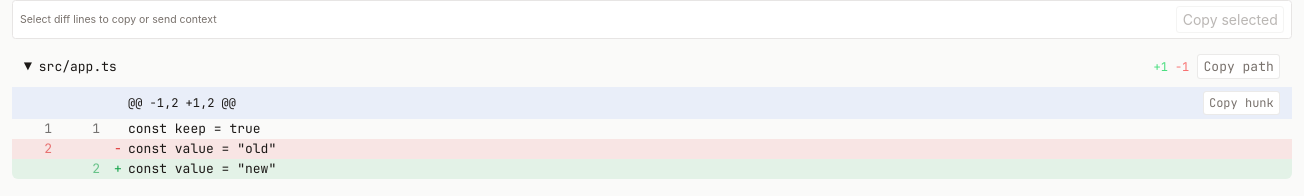
Scenario: DiffViewer actions › replaces a multi-line selection when clicking one selected line
Press the mouse on the button with test id "diff-line-row" showing "1 1 const keep = true" at (194, 128), box x1=12 y1=118 x2=1292 y2=138
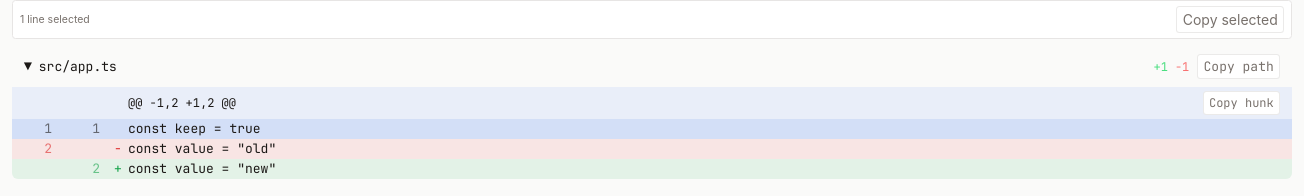
Press the mouse on the button with test id "diff-line-row" showing "2 + const value = \"new\"" at (202, 168), box x1=12 y1=158 x2=1292 y2=178
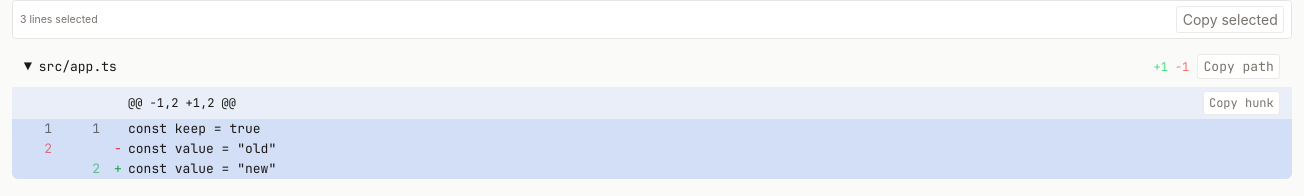
Expected: the text "3 lines selected" is shown, x1=20 y1=12 x2=98 y2=26
Press the mouse on the button with test id "diff-line-row" showing "2 - const value = \"old\"" at (202, 148), box x1=12 y1=138 x2=1292 y2=158
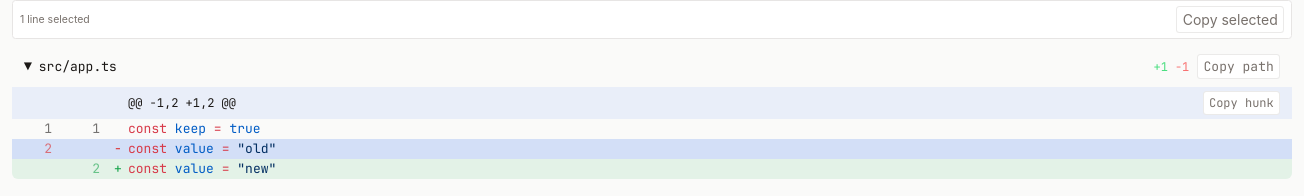
Expected: the text "1 line selected" is shown, x1=20 y1=12 x2=90 y2=26
